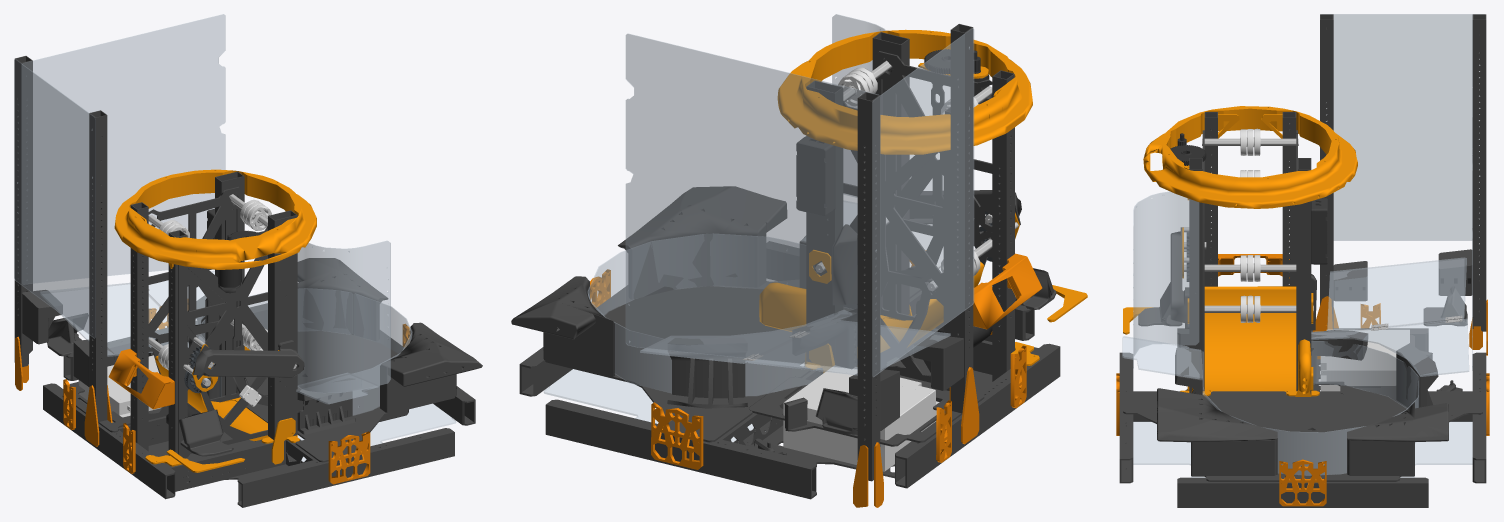
File: 3928-body.glb
3 views of the same model, side by side, from view 1: azimuth 30°, elevation 25°; view 2: azimuth 150°, elevation 25°; view 3: azimuth 270°, elevation 25° (orthographic). The views are drawn at different scales.
Parts seen in each view (by area): view 1: 26-TW-01, 26-SP-02, 26-TW-06, 26-TW-24, 2" ION Compliant Wheel (30A, 1/2" Hex Bore), Robot Battery, External 1/2" SnapRing, 26-TW-21; view 2: 26-TW-01, 26-SP-02, 26-TW-06, 26-TW-24, Robot Battery, Robot Radio (VH-109), External 1/2" SnapRing, 2" ION Compliant Wheel (30A, 1/2" Hex Bore), 26-TW-21; view 3: 26-SP-02, 26-TW-01, 26-TW-06, 26-TW-24, Robot Battery, 26-TW-21, 2" ION Compliant Wheel (30A, 1/2" Hex Bore), Robot Radio (VH-109), External 1/2" SnapRing.
Boxes of the visible parts, x1=… form: 26-TW-01: x1=14, y1=56, x2=482, y2=507; 26-SP-02: x1=14, y1=14, x2=456, y2=461; 26-TW-06: x1=114, y1=169, x2=316, y2=472; 26-TW-24: x1=15, y1=299, x2=410, y2=484; 2" ION Compliant Wheel (30A, 1/2" Hex Bore): x1=158, y1=199, x2=271, y2=370; Robot Battery: x1=78, y1=355, x2=161, y2=422; External 1/2" SnapRing: x1=166, y1=230, x2=260, y2=424; 26-TW-21: x1=148, y1=194, x2=296, y2=386; 26-TW-01: x1=511, y1=24, x2=1060, y2=499; 26-SP-02: x1=543, y1=14, x2=974, y2=441; 26-TW-06: x1=759, y1=29, x2=1087, y2=372; 26-TW-24: x1=590, y1=250, x2=1042, y2=507; Robot Battery: x1=783, y1=365, x2=939, y2=471; Robot Radio (VH-109): x1=796, y1=136, x2=835, y2=216; External 1/2" SnapRing: x1=924, y1=49, x2=992, y2=347; 2" ION Compliant Wheel (30A, 1/2" Hex Bore): x1=838, y1=67, x2=980, y2=275; 26-TW-21: x1=815, y1=60, x2=1018, y2=291; 26-SP-02: x1=1122, y1=14, x2=1484, y2=477; 26-TW-01: x1=1119, y1=14, x2=1486, y2=507; 26-TW-06: x1=1123, y1=106, x2=1357, y2=396; 26-TW-24: x1=1116, y1=254, x2=1489, y2=506; Robot Battery: x1=1320, y1=329, x2=1409, y2=391; 26-TW-21: x1=1184, y1=138, x2=1313, y2=312; 2" ION Compliant Wheel (30A, 1/2" Hex Bore): x1=1240, y1=128, x2=1260, y2=322; Robot Radio (VH-109): x1=1311, y1=198, x2=1327, y2=264; External 1/2" SnapRing: x1=1170, y1=133, x2=1206, y2=165.
Bounding box in the file's own units: 0.6985 × 0.7017 × 0.6985.
